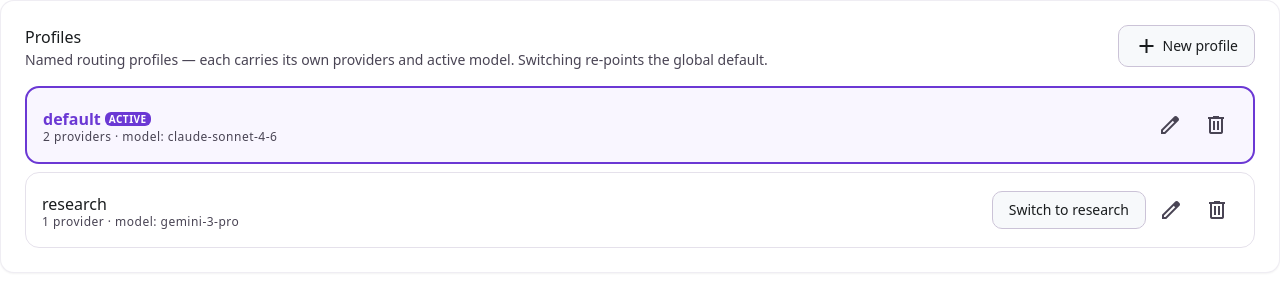
ProfilesSection (R3-2) › switches directly when the target has providers, refreshing status+catalog
This screenshot has width=1280, height=290.
What coordinates should you click on to do the following:
click the button with test id "profile-switch-research"
I would click on:
 (1069, 210)
Its box is [992,191,1146,229].
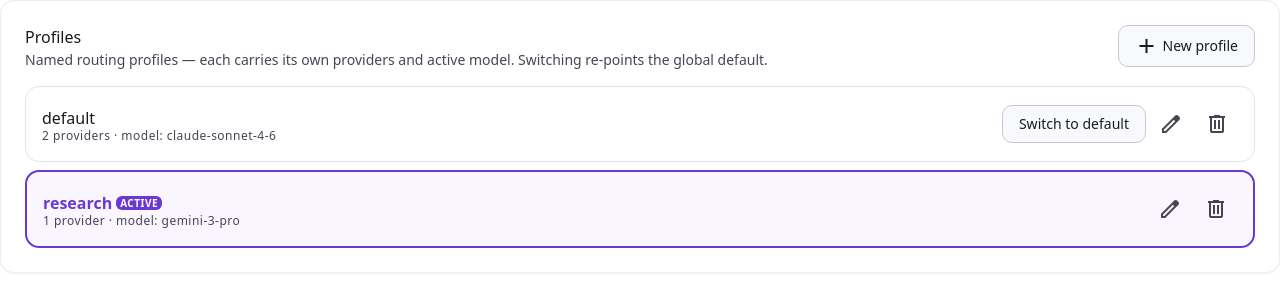
Now the button with test id "profile-switch-research" is gone
